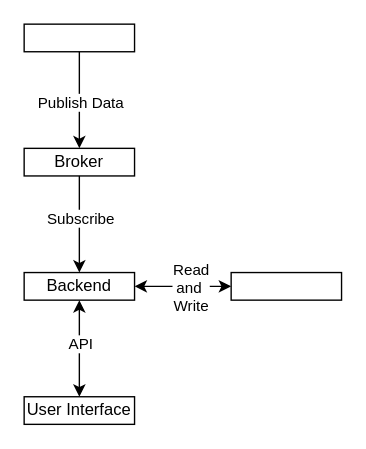
Some shapes in this 366 by 449 pixel diagram are drawn without their labels. The centre of each missing label's shape, as x and y in pixels:
"Database" goes at pixel 286 285.
"Sensor Block" goes at pixel 79 37.
